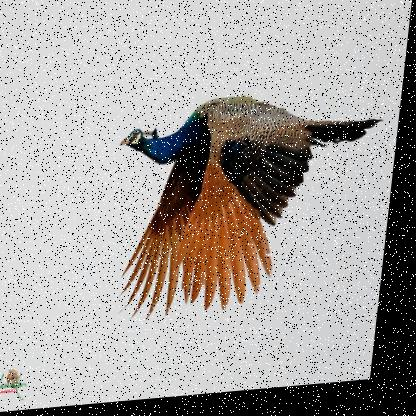Burung: (106, 90, 390, 328)
